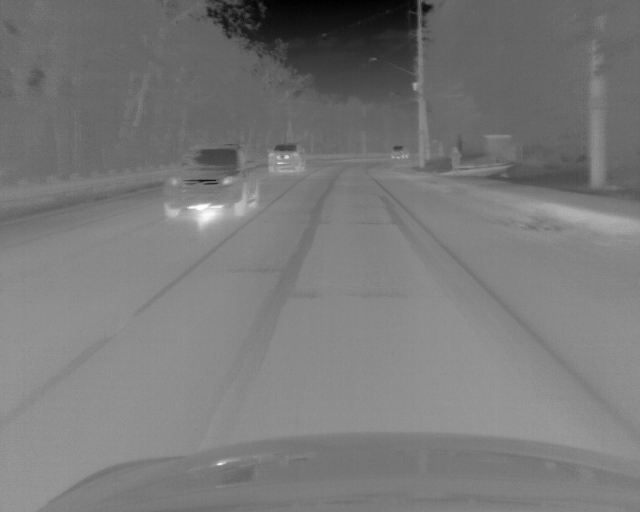car: (163, 143, 261, 216), (269, 143, 307, 174), (389, 144, 409, 161)
people: (449, 146, 461, 171)
